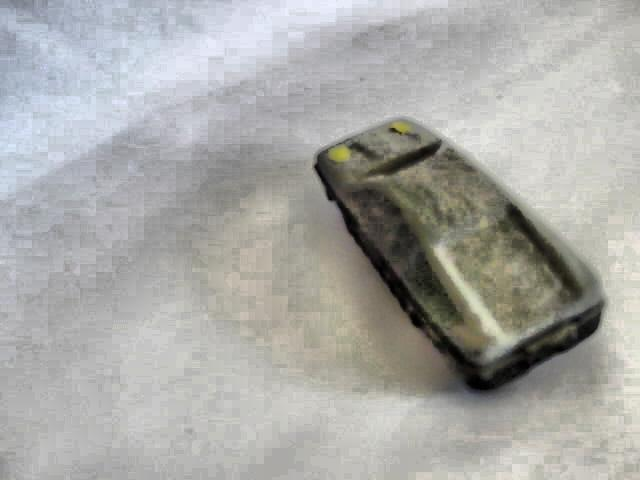normal_car: (308, 110, 612, 396)
